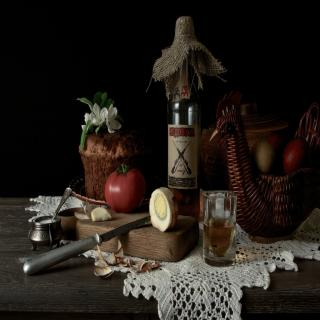tomato: (102, 164, 144, 212)
